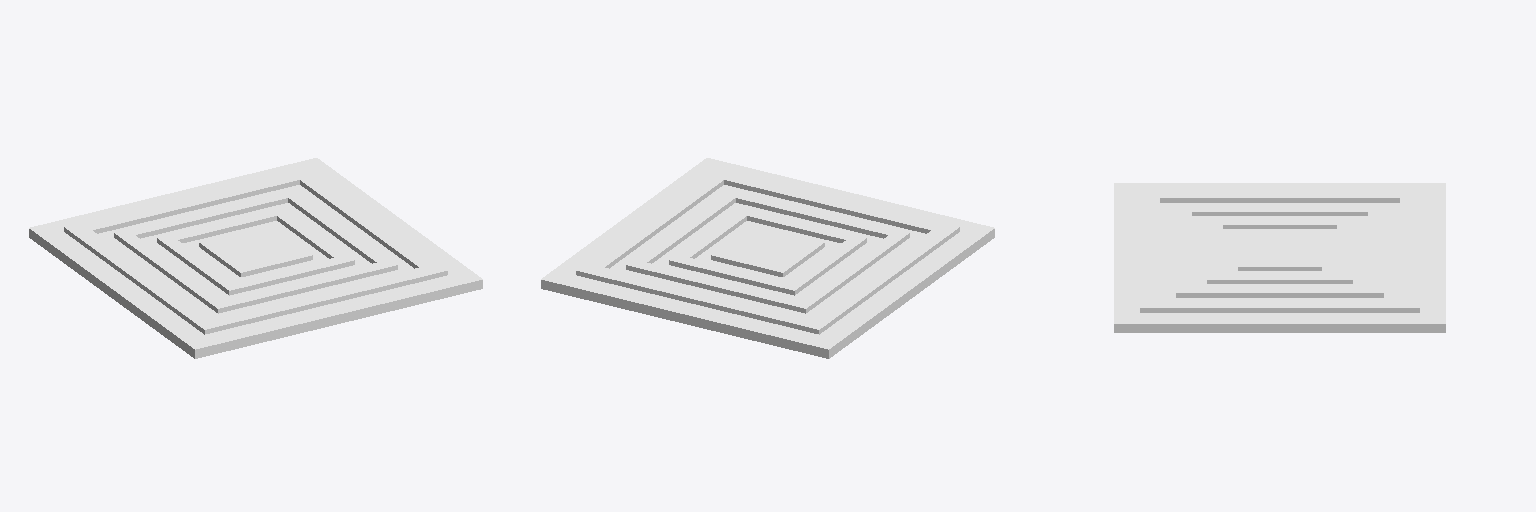
Rendered from jumppad.obj.
3 views of the same model, side by side, from view 1: azimuth 30°, elevation 25°; view 2: azimuth 150°, elevation 25°; view 3: azimuth 270°, elevation 25° (orthographic).
Parts seen in each view (by area): view 1: object 1; view 2: object 1; view 3: object 1.
Part boxes in pixels (left/top/right/bottom): object 1: left=29, top=158, right=482, bottom=358; object 1: left=541, top=158, right=994, bottom=358; object 1: left=1114, top=183, right=1445, bottom=332.
Bounding box in the file's own units: 6.4 × 0.3 × 6.4.